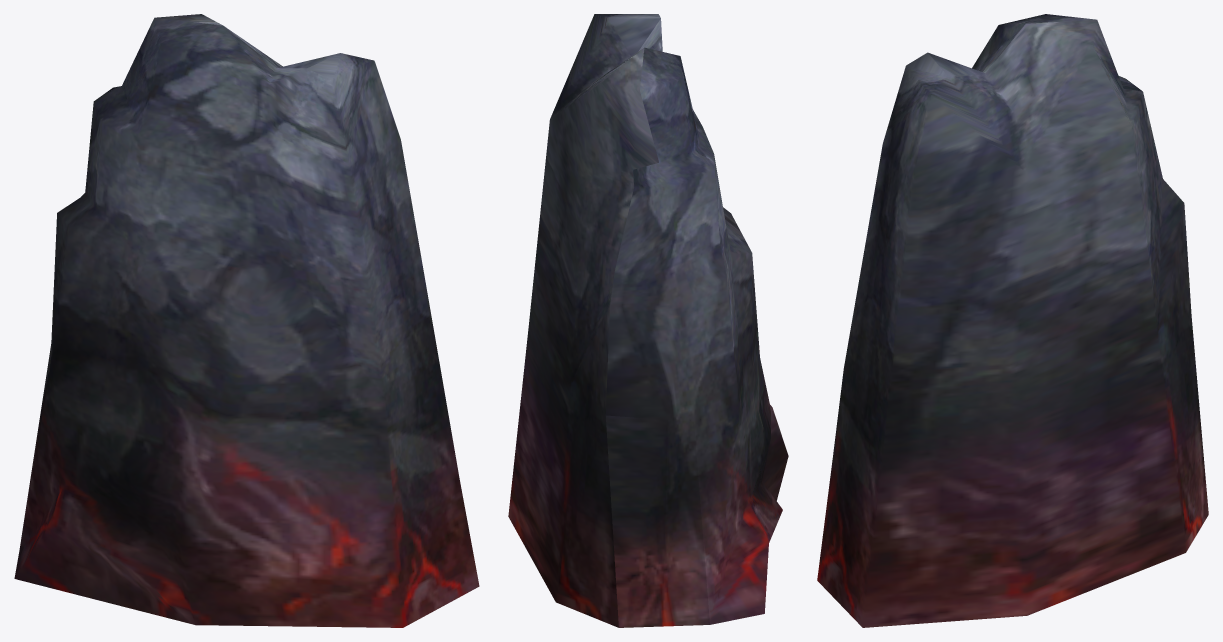
Rendered from environment_stone_yewai_005_e.FBX.
3 renders of one model, left to right at view 1: azimuth 30°, elevation 25°; view 2: azimuth 150°, elevation 25°; view 3: azimuth 270°, elevation 25°, orthographic. The views are drawn at different scales.
Visible parts, largest first — view 1: environment_stone_yewai_005_e; view 2: environment_stone_yewai_005_e; view 3: environment_stone_yewai_005_e.
Part boxes in pixels (<box>): environment_stone_yewai_005_e: <box>14,14,479,627</box>; environment_stone_yewai_005_e: <box>508,14,788,627</box>; environment_stone_yewai_005_e: <box>817,14,1208,627</box>.
Size of the model in its own units: 623 by 944 by 640.
1 material, 1 textured.
